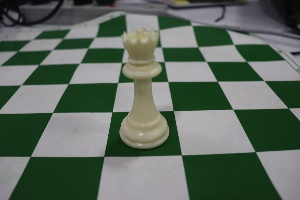white_queen: (106, 16, 184, 165)
